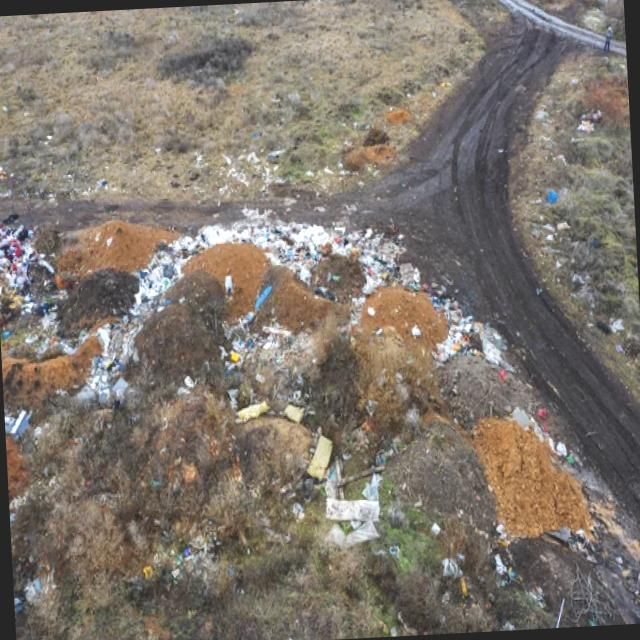garbage: (0, 172, 495, 482)
